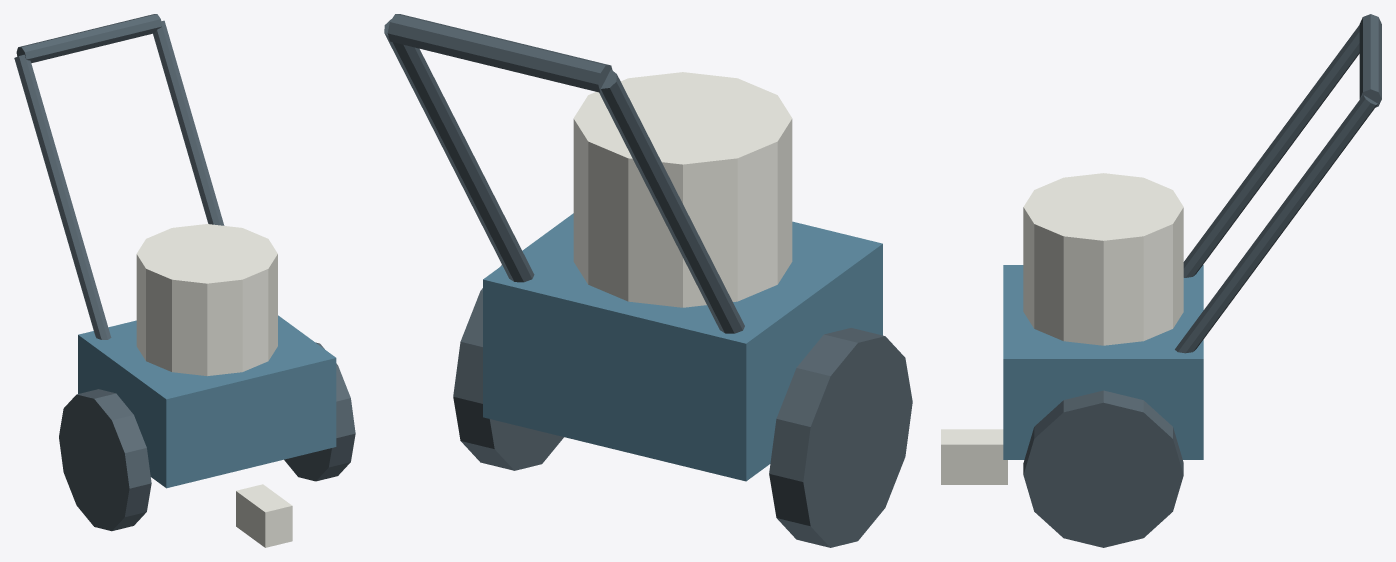
File: line-marker-cart-cf1d16fc.glb
3 views of the same model, side by side, from view 1: azimuth 30°, elevation 25°; view 2: azimuth 150°, elevation 25°; view 3: azimuth 270°, elevation 25° (orthographic). The views are drawn at different scales.
Parts seen in each view (by area): view 1: line-marker-cart, wheel--0.3-0, wheel-0.3-0; view 2: line-marker-cart, wheel--0.3-0, wheel-0.3-0; view 3: line-marker-cart, wheel-0.3-0.
Boxes of the visible parts, x1=… form: line-marker-cart: x1=14, y1=14, x2=336, y2=547; wheel--0.3-0: x1=59, y1=389, x2=151, y2=531; wheel-0.3-0: x1=284, y1=342, x2=355, y2=481; line-marker-cart: x1=384, y1=14, x2=882, y2=481; wheel--0.3-0: x1=769, y1=328, x2=912, y2=547; wheel-0.3-0: x1=453, y1=265, x2=563, y2=470; line-marker-cart: x1=941, y1=14, x2=1381, y2=484; wheel-0.3-0: x1=1023, y1=390, x2=1183, y2=547.
Size of the model in its own units: 0.665 by 1.08 by 0.99.
